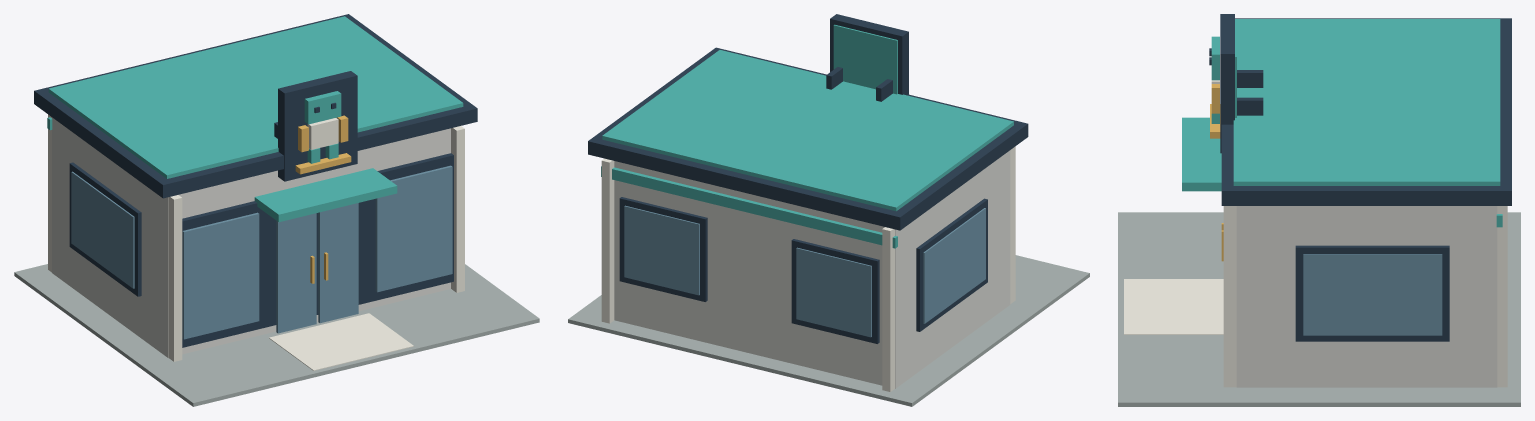
Rendered from figure-gallery.glb.
3 renders of one model, left to right at view 1: azimuth 30°, elevation 25°; view 2: azimuth 150°, elevation 25°; view 3: azimuth 270°, elevation 25°, orthographic. The views are drawn at different scales.
Visible parts, largest first — view 1: teal, navy, glass, stone, ivory, trim, door-left, door-right, gold; view 2: teal, ivory, navy, glass, stone, trim; view 3: teal, ivory, stone, navy, glass, trim, gold.
Boxes of the visible parts, x1=… form: teal: x1=47, y1=16, x2=463, y2=222; navy: x1=34, y1=14, x2=477, y2=347; glass: x1=71, y1=165, x2=452, y2=339; stone: x1=14, y1=264, x2=539, y2=406; ivory: x1=52, y1=117, x2=450, y2=357; trim: x1=48, y1=114, x2=464, y2=370; door-left: x1=276, y1=213, x2=316, y2=333; door-right: x1=318, y1=203, x2=358, y2=323; gold: x1=295, y1=115, x2=351, y2=174; teal: x1=601, y1=24, x2=1013, y2=248; ivory: x1=614, y1=150, x2=1010, y2=388; navy: x1=588, y1=14, x2=1028, y2=343; glass: x1=624, y1=205, x2=985, y2=337; stone: x1=568, y1=255, x2=1089, y2=406; trim: x1=601, y1=146, x2=1015, y2=391; teal: x1=1182, y1=19, x2=1502, y2=227; ivory: x1=1236, y1=206, x2=1497, y2=387; stone: x1=1118, y1=212, x2=1520, y2=406; navy: x1=1209, y1=14, x2=1511, y2=341; glass: x1=1303, y1=254, x2=1442, y2=335; trim: x1=1124, y1=80, x2=1507, y2=387; gold: x1=1210, y1=84, x2=1220, y2=138.
Bounding box in the file's own units: 7.6 × 5.18 × 6.8.
